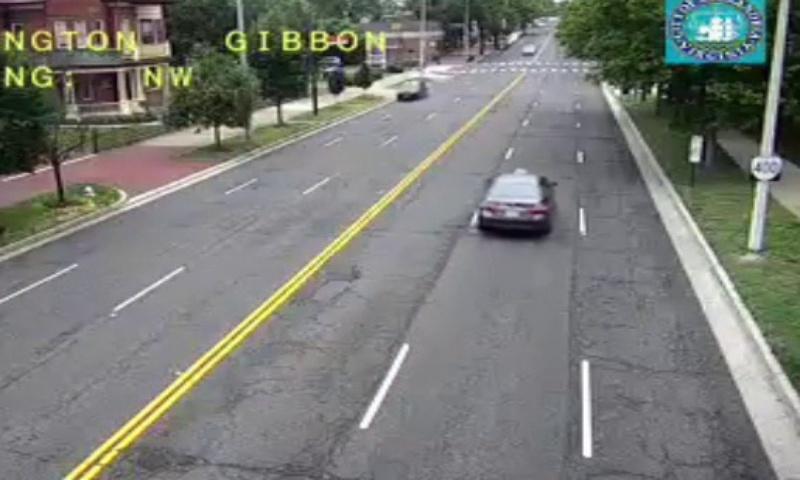car: (477, 172, 550, 230)
